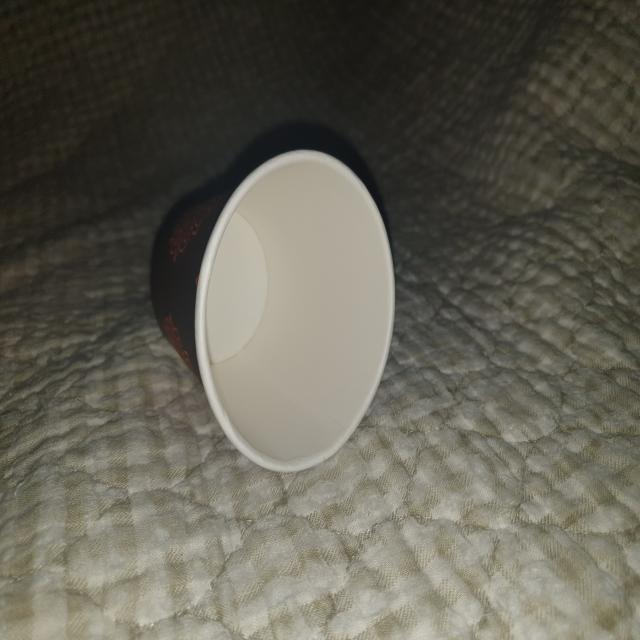cups: (150, 135, 403, 484)
